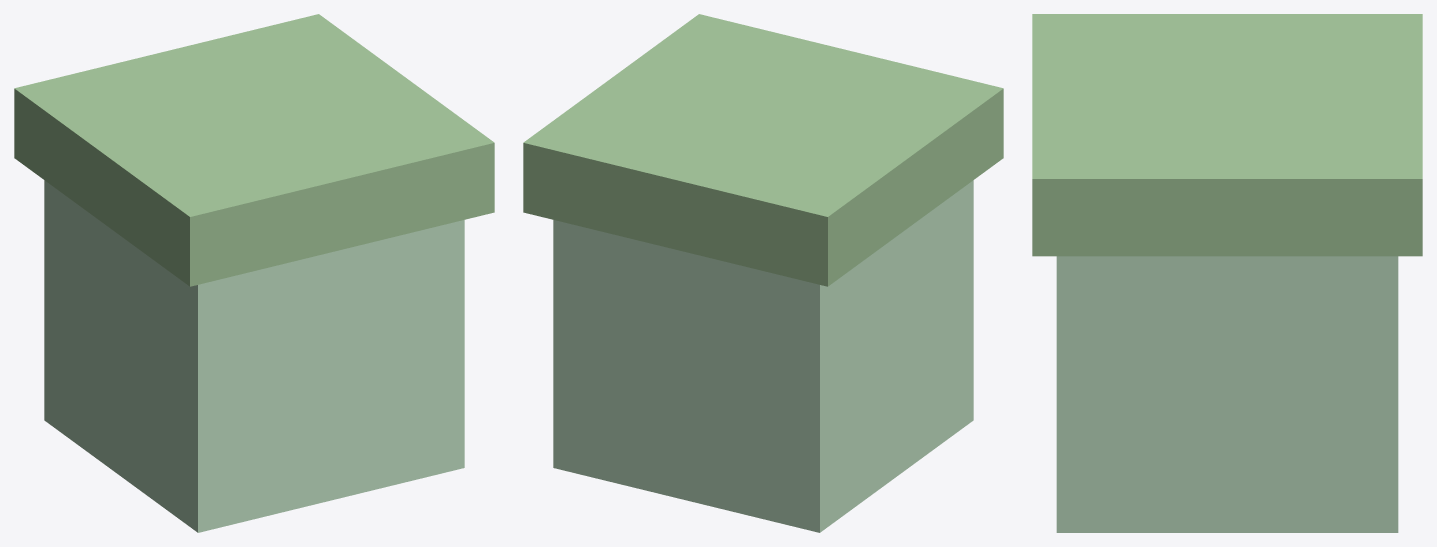
Rendered from cardItem.fbx.
3 views of the same model, side by side, from view 1: azimuth 30°, elevation 25°; view 2: azimuth 150°, elevation 25°; view 3: azimuth 270°, elevation 25° (orthographic). The views are drawn at different scales.
Parts seen in each view (by area): view 1: box, box_cover; view 2: box, box_cover; view 3: box_cover, box.
Boxes of the visible parts, bbox=[...] form: box: bbox=[44, 180, 464, 532]; box_cover: bbox=[14, 14, 494, 286]; box: bbox=[553, 180, 973, 532]; box_cover: bbox=[523, 14, 1003, 286]; box_cover: bbox=[1032, 14, 1422, 256]; box: bbox=[1056, 256, 1398, 532].
Size of the model in its own units: 228 by 235 by 228.
